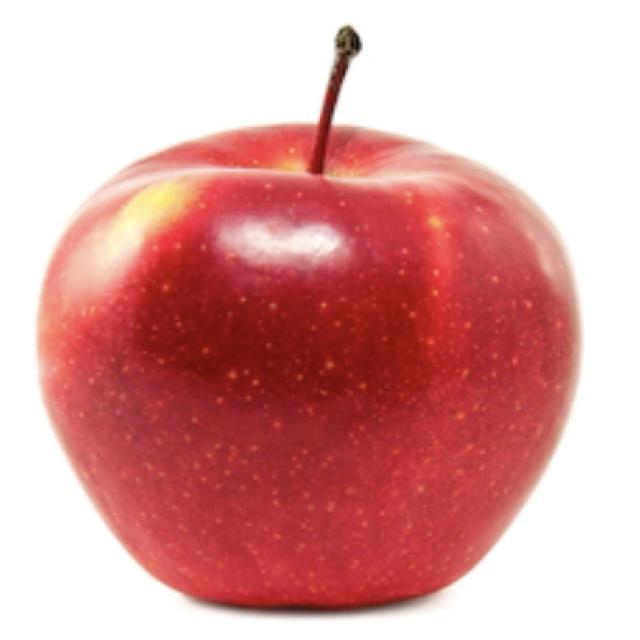Fresh Apple: (32, 117, 585, 610)
